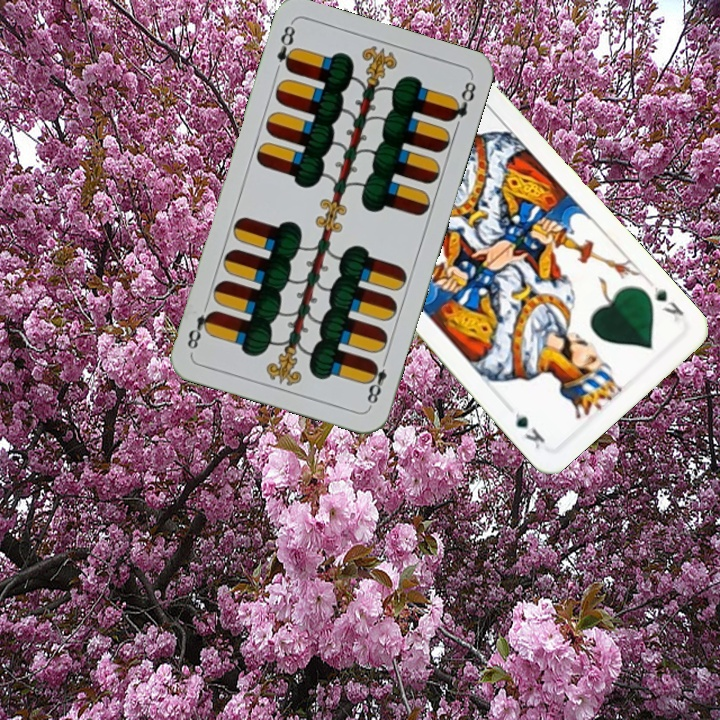E8: (362, 352, 391, 410), (272, 19, 299, 75)
GK: (649, 282, 687, 325)
